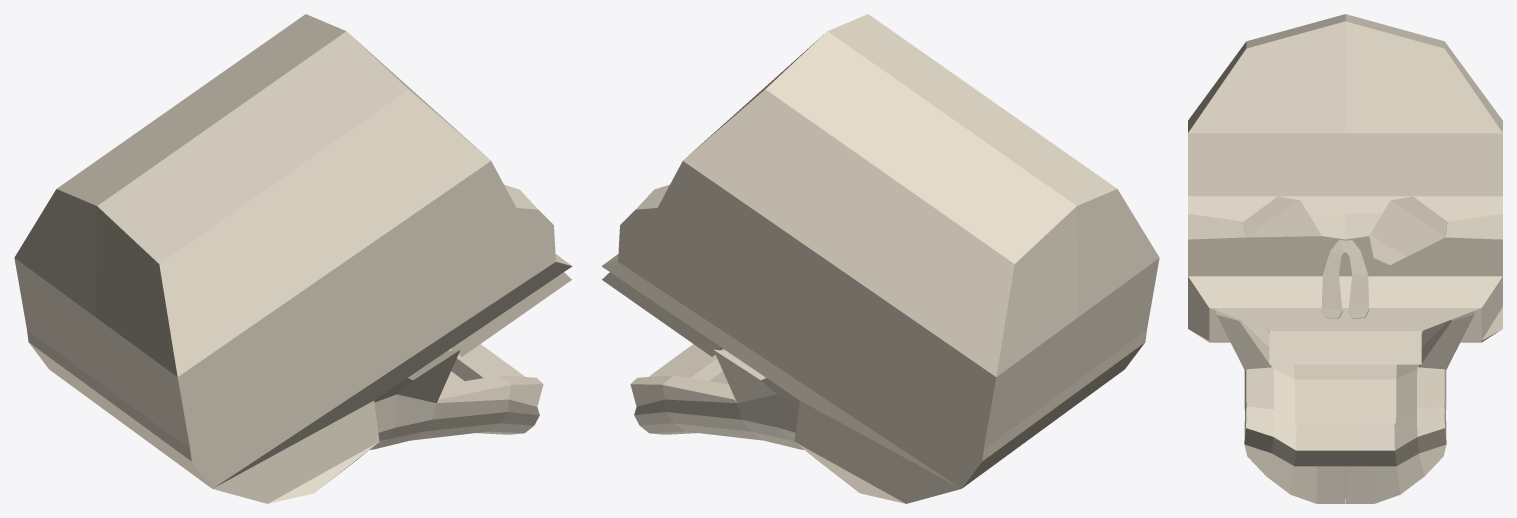
File: JustSkull.fbx
The picture shows the model from 3 angles, left to right: view 1: azimuth 30°, elevation 25°; view 2: azimuth 150°, elevation 25°; view 3: azimuth 270°, elevation 25°; orthographic projection. The views are drawn at different scales.
Parts seen in each view (by area): view 1: TopHalfSkull, LowerJaw; view 2: TopHalfSkull, LowerJaw; view 3: TopHalfSkull, LowerJaw.
Part boxes in pixels (left/top/right/bottom): TopHalfSkull: left=14, top=14, right=572, bottom=503; LowerJaw: left=370, top=344, right=543, bottom=449; TopHalfSkull: left=601, top=14, right=1159, bottom=503; LowerJaw: left=630, top=344, right=803, bottom=449; TopHalfSkull: left=1188, top=14, right=1502, bottom=364; LowerJaw: left=1216, top=311, right=1474, bottom=503.
Size of the model in its own units: 54.6 by 51.22 by 35.37.
